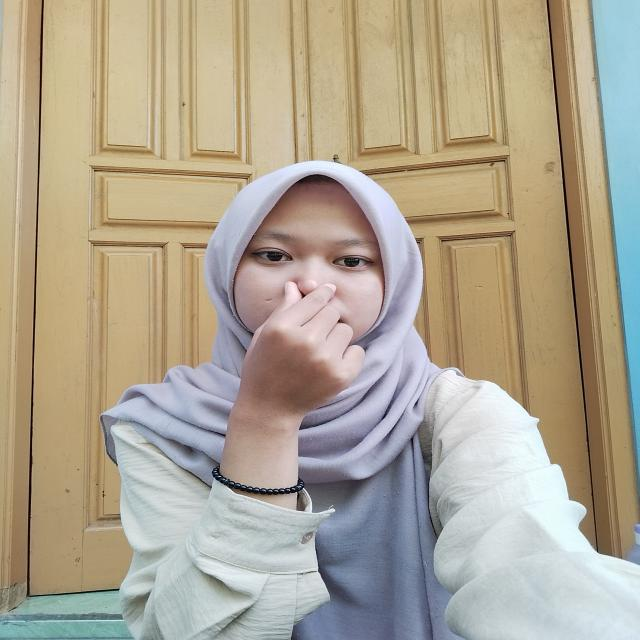bau: (218, 275, 378, 432)
